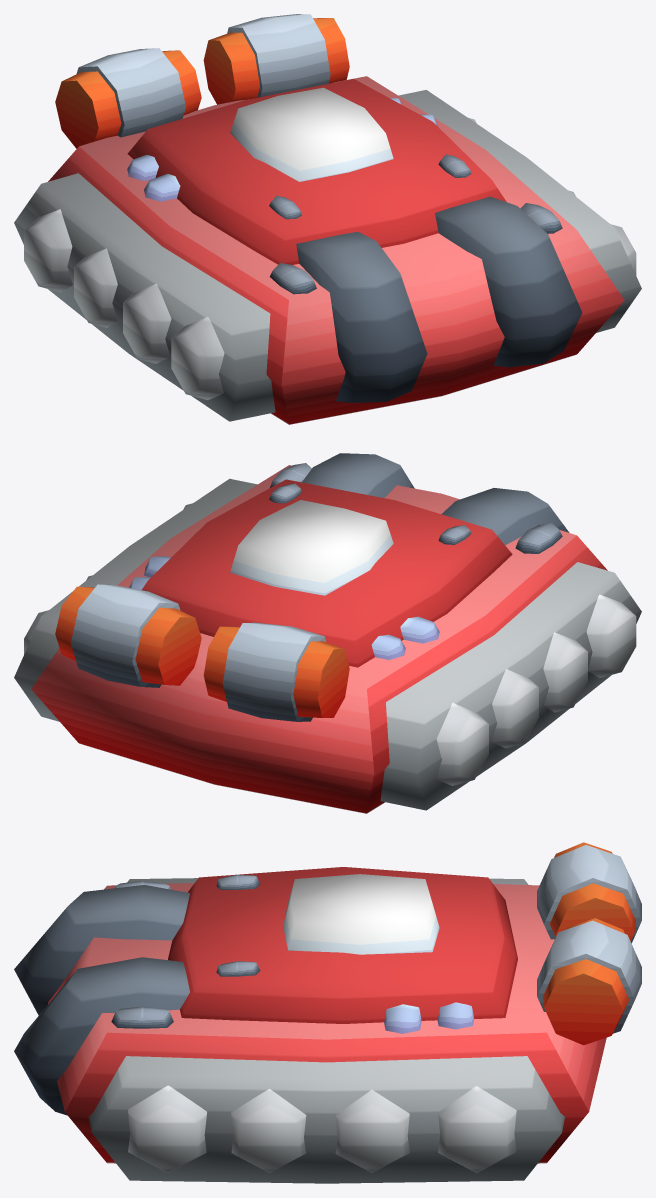
Rendered from tank-body_001.fbx.
3 renders of one model, top to bottom at view 1: azimuth 30°, elevation 25°; view 2: azimuth 150°, elevation 25°; view 3: azimuth 270°, elevation 25°, orthographic. The views are drawn at different scales.
Parts seen in each view (by area): view 1: tank-body.001; view 2: tank-body.001; view 3: tank-body.001.
Boxes of the visible parts, bbox=[...] form: tank-body.001: bbox=[14, 14, 641, 424]; tank-body.001: bbox=[14, 453, 641, 813]; tank-body.001: bbox=[14, 842, 641, 1183].
Size of the model in its own units: 40.1 by 16.25 by 47.76.
